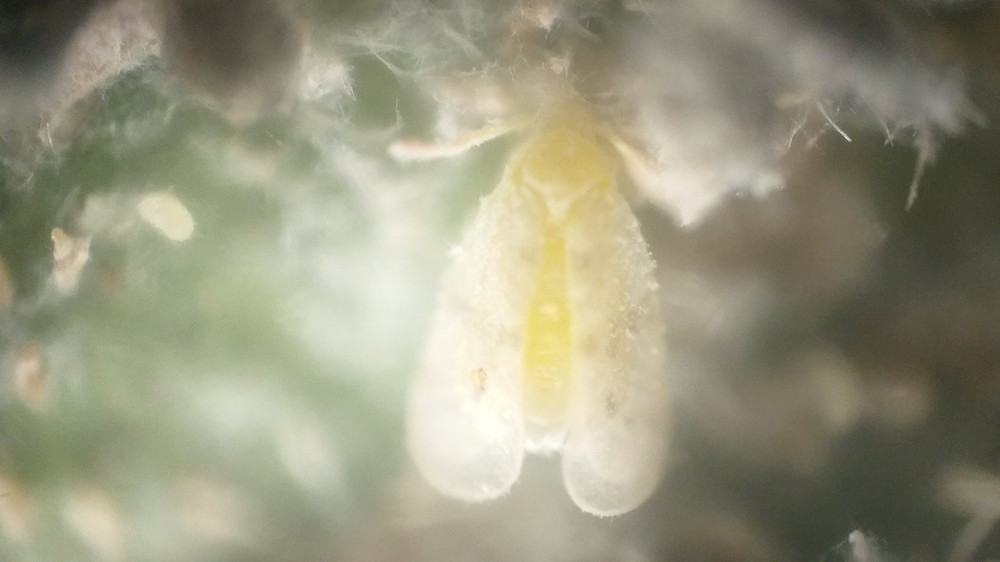Mosca Blanca: (370, 86, 726, 539)
